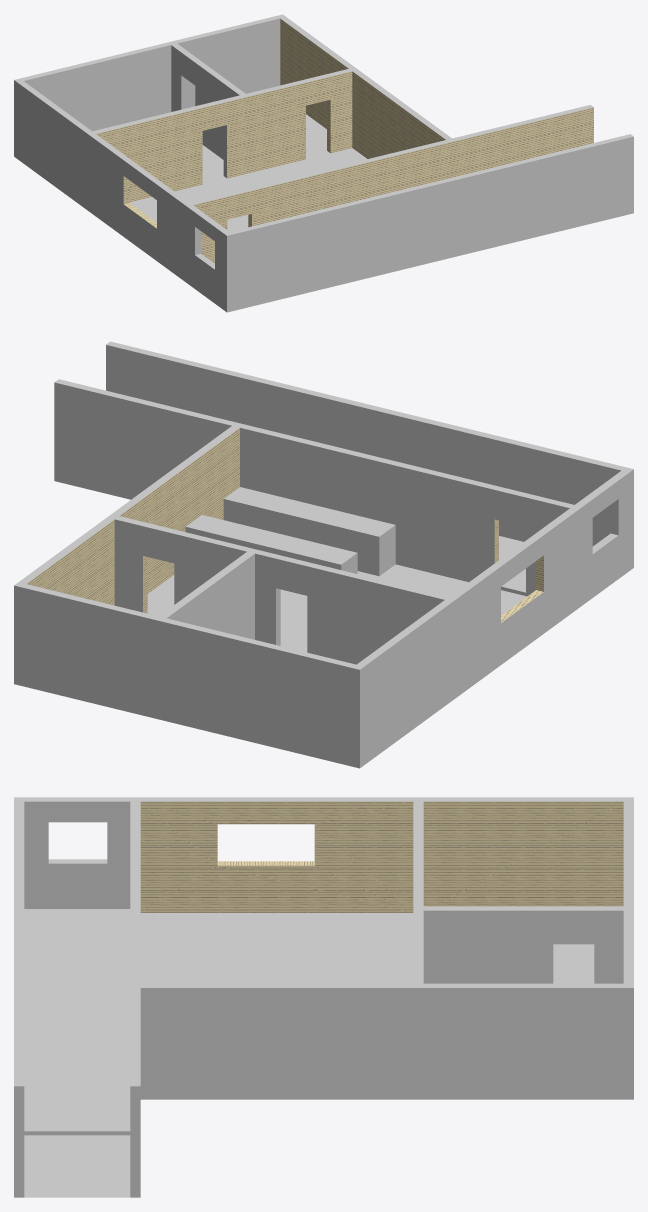
Rendered from House_1.obj.
3 views of the same model, one above another, from view 1: azimuth 30°, elevation 25°; view 2: azimuth 150°, elevation 25°; view 3: azimuth 270°, elevation 25° (orthographic). The views are drawn at different scales.
Parts seen in each view (by area): view 1: Mesh1 Model; view 2: Mesh1 Model; view 3: Mesh1 Model.
Part boxes in pixels (bbox=[...]): Mesh1 Model: bbox=[14, 14, 633, 312]; Mesh1 Model: bbox=[14, 341, 633, 768]; Mesh1 Model: bbox=[14, 797, 633, 1197].
Bounding box in the file's own units: 667 × 120 × 605.
